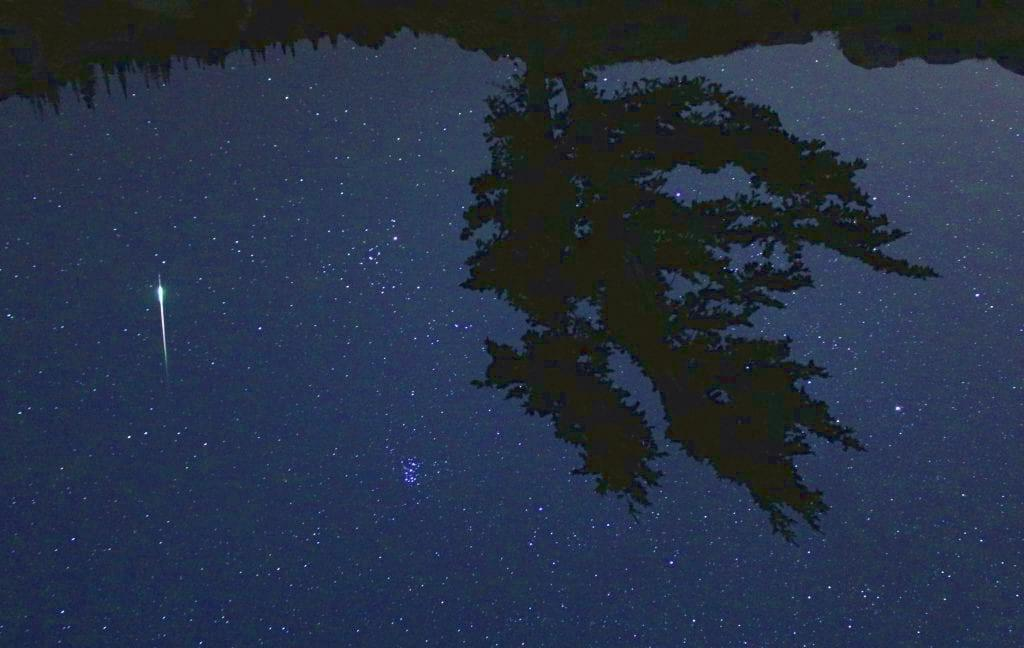meteorite: (146, 260, 182, 388)
